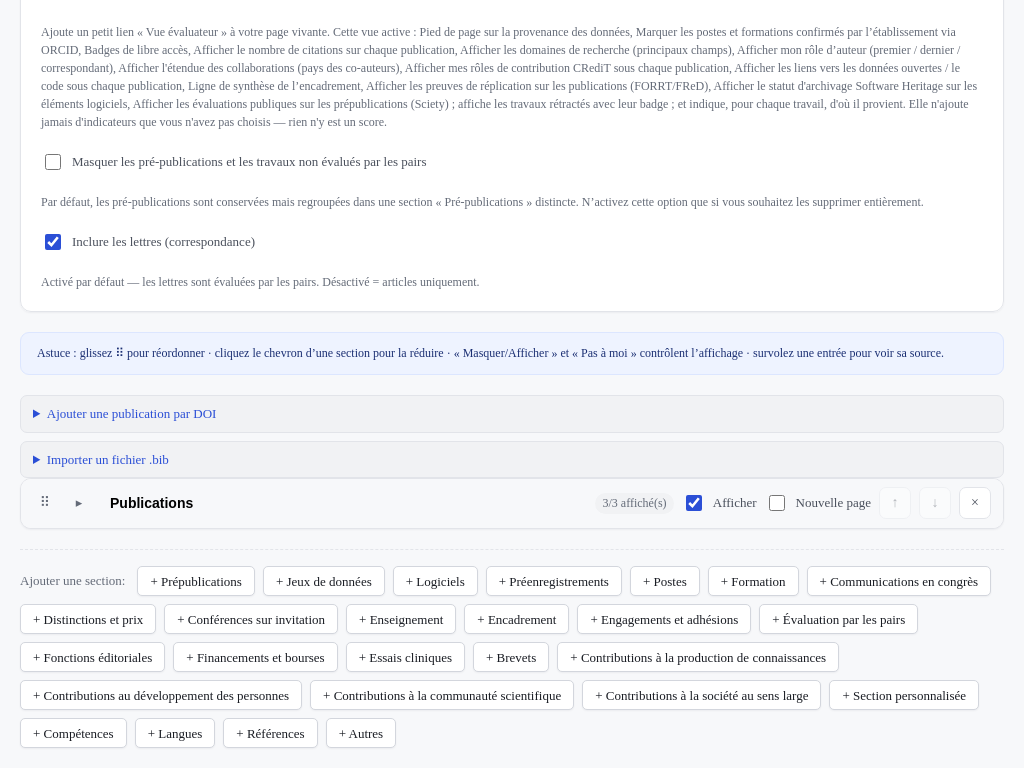
Test: CvEditor (component) › renders chrome in the INTERFACE locale (independent of the CV language)
This screenshot has width=1024, height=768.
(page scrolled)
Click the button with class "section-toggle": (79, 503) [65,489,93,517]
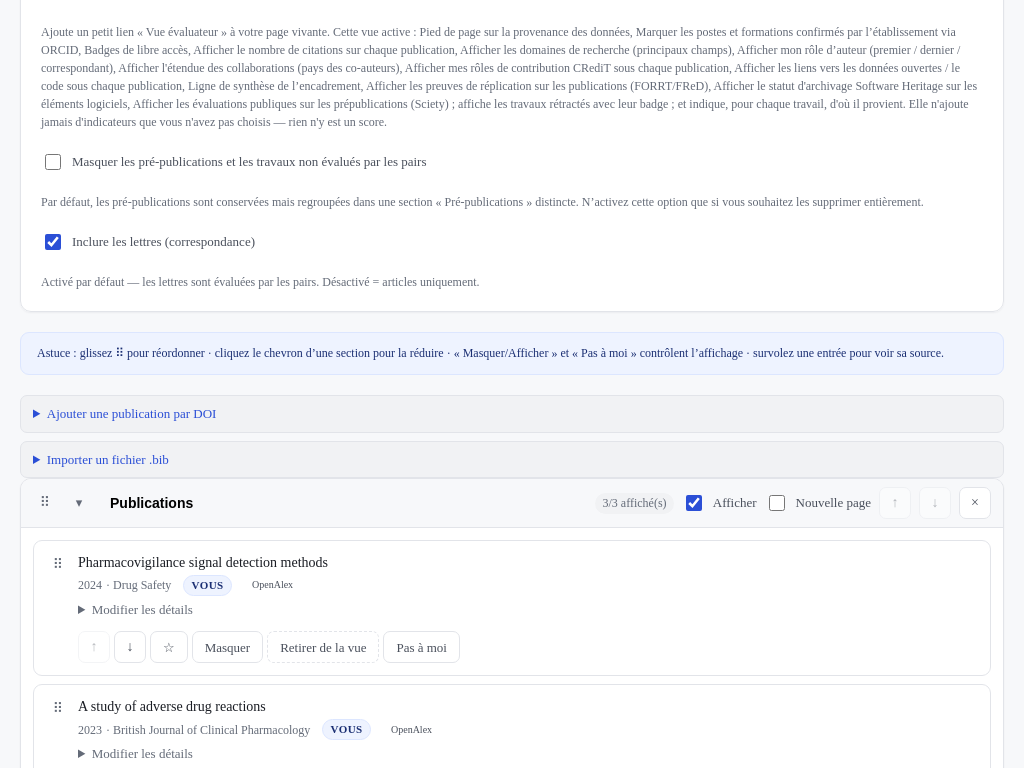
Check: the button "Masquer" is shown, box [192,631,263,663]
